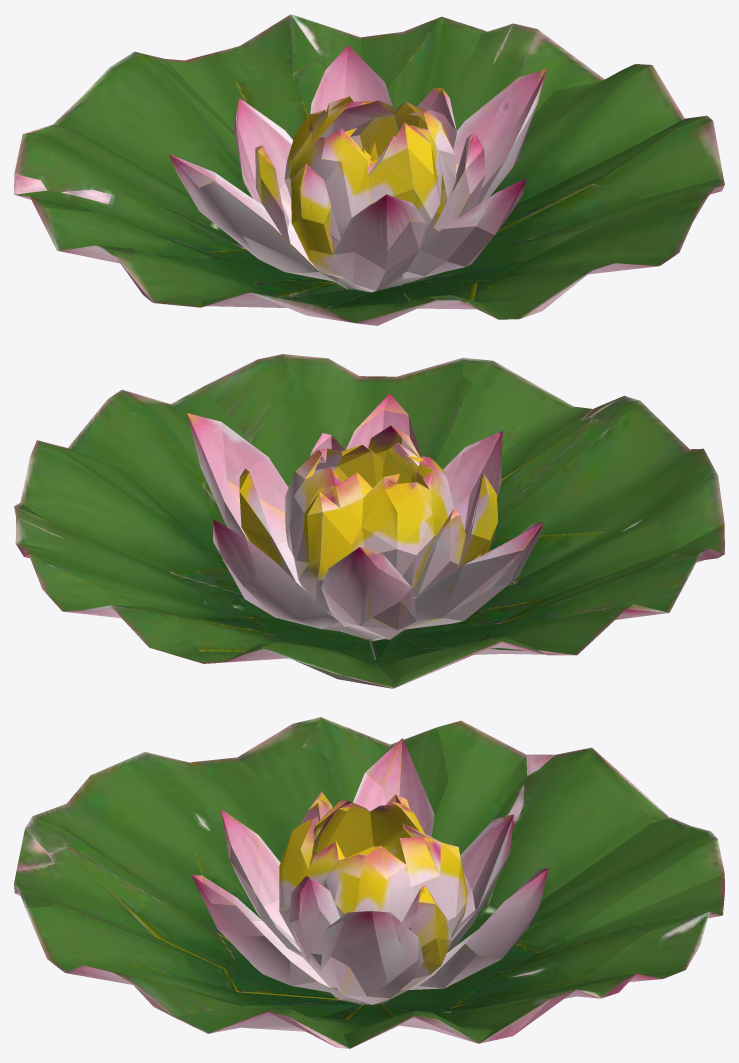
The model's file is lotus.glb.
3 views of the same model, one above another, from view 1: azimuth 30°, elevation 25°; view 2: azimuth 150°, elevation 25°; view 3: azimuth 270°, elevation 25° (orthographic). The views are drawn at different scales.
Size of the model in its own units: 1.9 by 0.5577 by 1.88.
Materials: 1 (1 with a texture image).
